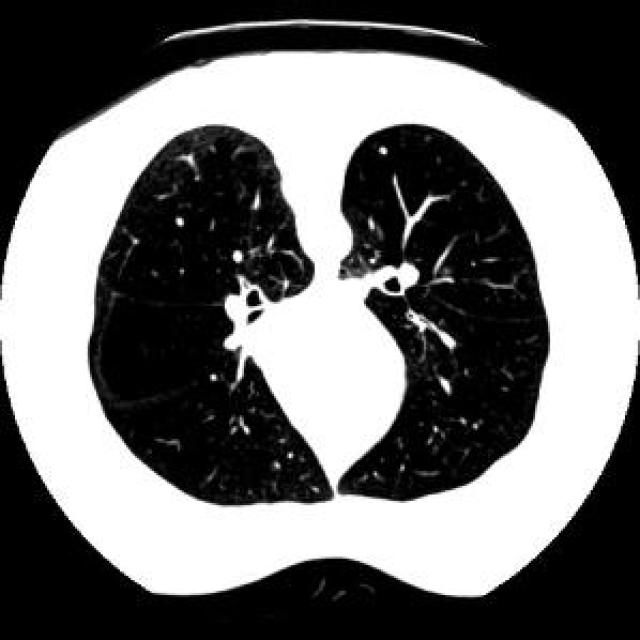Tumor: (380, 149, 386, 155)
